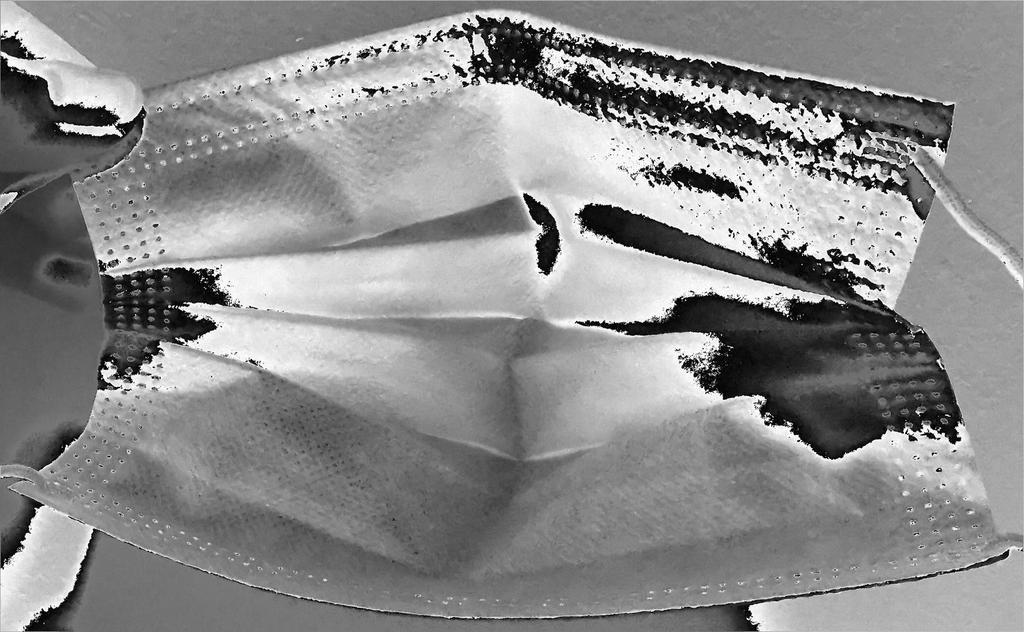High GSM: (128, 83, 893, 568)
